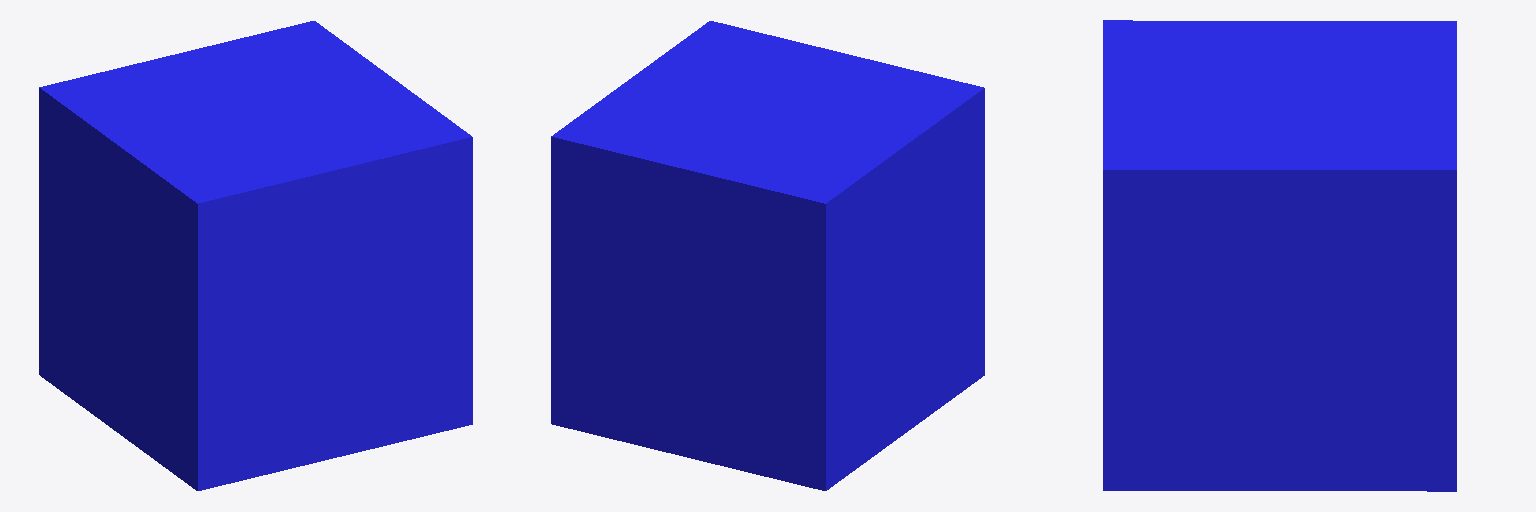
URDF robot description (viewer_cam):
<?xml version="1.0"?>
<robot name="viewer_cam" xmlns:xacro="http://ros.org/wiki/xacro">

  <!-- Dummy world link so Gazebo doesn't complain -->
  <link name="world"/>

  <link name="viewer_cam_link">
    <visual>
      <geometry>
        <box size="0.05 0.05 0.05"/>
      </geometry>
      <material name="blue">
        <color rgba="0.2 0.2 1.0 1.0"/>
      </material>
      
    </visual>
        <inertial>
      <mass value="1e-5" />
      <origin xyz="0 0 0" rpy="0 0 0"/>
      <inertia ixx="1e-6" ixy="0" ixz="0" iyy="1e-6" iyz="0" izz="1e-6" />
    </inertial>
  </link>

  <joint name="viewer_cam_joint" type="fixed">
    <parent link="world"/>
    <child link="viewer_cam_link"/>
    <origin xyz="2.4 0.2 1.5" rpy="0 0 3.14"/>
  </joint>

  <gazebo reference="viewer_cam_link">
    <sensor name="viewer_cam_sensor" type="camera">
      <update_rate>30</update_rate>

      <camera>
        <horizontal_fov>1.396</horizontal_fov>
        <image>
          <width>640</width>
          <height>480</height>
          <format>R8G8B8</format>
        </image>
        <clip>
          <near>0.1</near>
          <far>100</far>
        </clip>
      </camera>
      <plugin name="viewer_cam_plugin" filename="libgazebo_ros_camera.so">
        <alwaysOn>true</alwaysOn>
        <updateRate>0.0</updateRate>
        <cameraName>viewer_cam</cameraName>
        <imageTopicName>image_raw</imageTopicName>
        <cameraInfoTopicName>camera_info</cameraInfoTopicName>
        <frameName>viewer_cam_link</frameName>
      </plugin>
    </sensor>
  </gazebo>

</robot>

--- Facts derived from the render (not from the file) ---
3 views of the same robot in one strip: view 1: azimuth 30°, elevation 25°; view 2: azimuth 150°, elevation 25°; view 3: azimuth 270°, elevation 25° (orthographic).
Model viewer_cam with 2 links and 1 joints (1 fixed), rooted at world, posed every joint at zero.
Visible links, largest first — view 1: viewer_cam_link; view 2: viewer_cam_link; view 3: viewer_cam_link.
Boxes of the visible links, left/top/right/bottom form: viewer_cam_link: left=39, top=21, right=472, bottom=490; viewer_cam_link: left=551, top=21, right=984, bottom=490; viewer_cam_link: left=1103, top=20, right=1456, bottom=491.
Bounding box of the posed robot: 0.0501 × 0.0501 × 0.05 m (x, y, z).
Geometry: primitives only (box / cylinder / sphere), no mesh files.